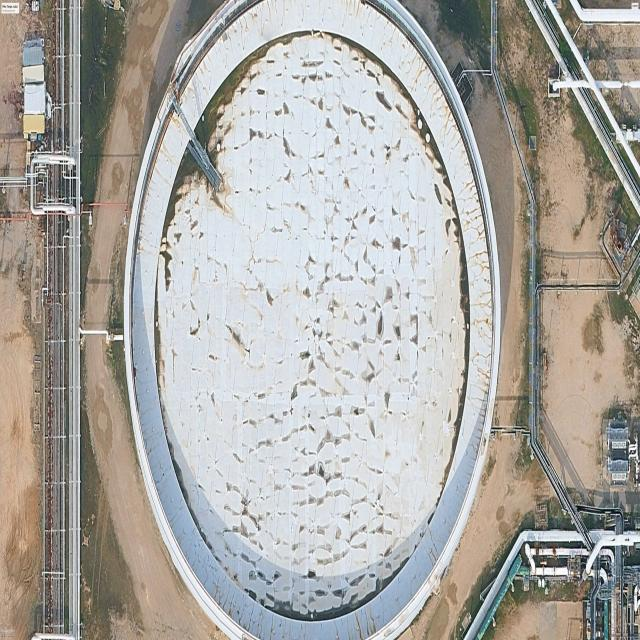Oil Rafinery: (124, 0, 501, 640)
